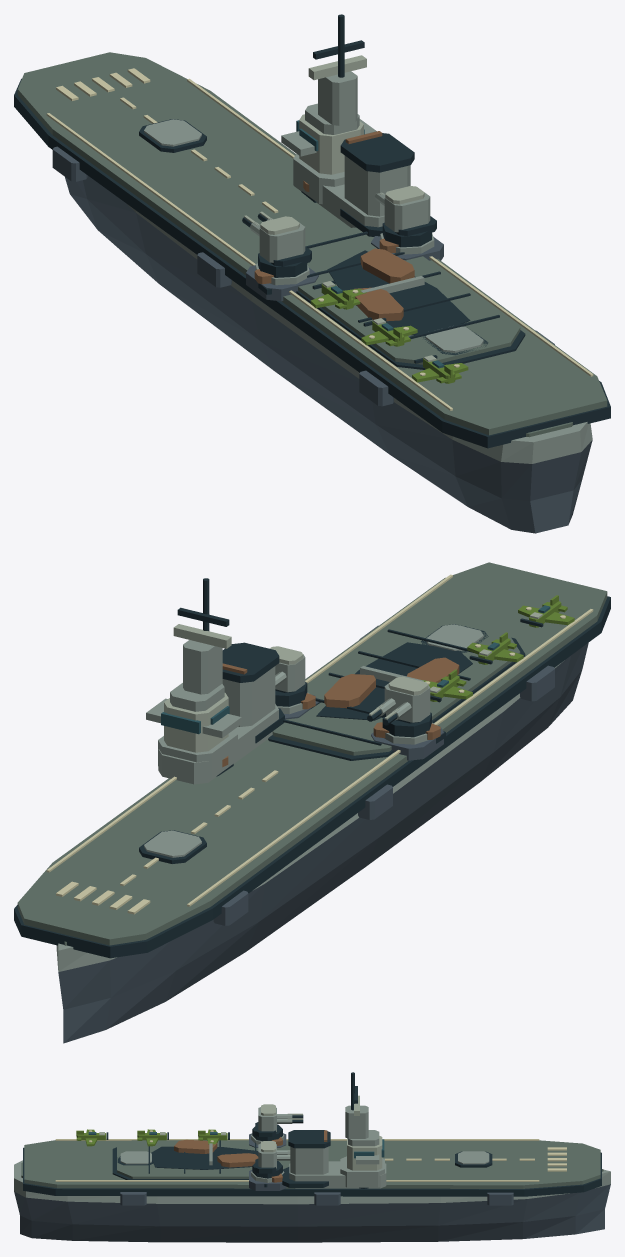
The model's file is historic-illustrious.glb.
3 views of the same model, one above another, from view 1: azimuth 30°, elevation 25°; view 2: azimuth 150°, elevation 25°; view 3: azimuth 270°, elevation 25° (orthographic). The views are drawn at different scales.
Visible parts, largest first — view 1: historic-illustrious-historic-illustrious-geometry, historic-illustrious-part_flight-deck.005-geometry, historic-illustrious-part_bridge.018-geometry, historic-illustrious-ruin_flight-deck.004-geometry, historic-illustrious-historic_funnel_0.019-geometry, historic-illustrious-turret_aa_aa-port.020-geometry, historic-illustrious-turret_aa_aa-starboard.018-geometry, historic-illustrious-aircraft_lift_0.005-geometry, historic-illustrious-aircraft_lift_1.005-geometry, historic-illustrious-part_aa-port.020-geometry, historic-illustrious-parked_aircraft_1.005-geometry, historic-illustrious-parked_aircraft_0.005-geometry (+2 smaller); view 2: historic-illustrious-historic-illustrious-geometry, historic-illustrious-part_flight-deck.005-geometry, historic-illustrious-part_bridge.018-geometry, historic-illustrious-historic_funnel_0.019-geometry, historic-illustrious-ruin_flight-deck.004-geometry, historic-illustrious-turret_aa_aa-port.020-geometry, historic-illustrious-turret_aa_aa-starboard.018-geometry, historic-illustrious-aircraft_lift_0.005-geometry, historic-illustrious-part_aa-port.020-geometry, historic-illustrious-aircraft_lift_1.005-geometry, historic-illustrious-parked_aircraft_1.005-geometry, historic-illustrious-parked_aircraft_0.005-geometry (+1 smaller); view 3: historic-illustrious-historic-illustrious-geometry, historic-illustrious-historic_funnel_0.019-geometry, historic-illustrious-part_bridge.018-geometry, historic-illustrious-part_flight-deck.005-geometry, historic-illustrious-ruin_flight-deck.004-geometry, historic-illustrious-turret_aa_aa-port.020-geometry, historic-illustrious-turret_aa_aa-starboard.018-geometry, historic-illustrious-aircraft_lift_0.005-geometry, historic-illustrious-aircraft_lift_1.005-geometry, historic-illustrious-part_aa-starboard.018-geometry, historic-illustrious-parked_aircraft_0.005-geometry, historic-illustrious-parked_aircraft_1.005-geometry (+1 smaller).
Part boxes in pixels (x1,y1,x2,y2): historic-illustrious-historic-illustrious-geometry: [14, 52, 610, 533]; historic-illustrious-part_flight-deck.005-geometry: [296, 227, 525, 369]; historic-illustrious-part_bridge.018-geometry: [281, 14, 376, 204]; historic-illustrious-ruin_flight-deck.004-geometry: [327, 248, 470, 335]; historic-illustrious-historic_funnel_0.019-geometry: [293, 131, 414, 236]; historic-illustrious-turret_aa_aa-port.020-geometry: [242, 211, 311, 277]; historic-illustrious-turret_aa_aa-starboard.018-geometry: [375, 186, 436, 247]; historic-illustrious-aircraft_lift_0.005-geometry: [139, 119, 206, 152]; historic-illustrious-aircraft_lift_1.005-geometry: [423, 326, 488, 355]; historic-illustrious-part_aa-port.020-geometry: [246, 263, 318, 301]; historic-illustrious-parked_aircraft_1.005-geometry: [361, 318, 417, 346]; historic-illustrious-parked_aircraft_0.005-geometry: [412, 355, 468, 383]; historic-illustrious-historic-illustrious-geometry: [14, 562, 610, 1043]; historic-illustrious-part_flight-deck.005-geometry: [268, 617, 525, 760]; historic-illustrious-part_bridge.018-geometry: [146, 578, 241, 779]; historic-illustrious-historic_funnel_0.019-geometry: [158, 642, 284, 784]; historic-illustrious-ruin_flight-deck.004-geometry: [316, 642, 472, 720]; historic-illustrious-turret_aa_aa-port.020-geometry: [367, 676, 431, 737]; historic-illustrious-turret_aa_aa-starboard.018-geometry: [270, 646, 307, 706]; historic-illustrious-aircraft_lift_0.005-geometry: [139, 830, 206, 863]; historic-illustrious-part_aa-port.020-geometry: [371, 722, 443, 760]; historic-illustrious-aircraft_lift_1.005-geometry: [421, 624, 488, 653]; historic-illustrious-parked_aircraft_1.005-geometry: [467, 632, 523, 664]; historic-illustrious-parked_aircraft_0.005-geometry: [518, 595, 574, 627]; historic-illustrious-historic-illustrious-geometry: [14, 1139, 610, 1242]; historic-illustrious-historic_funnel_0.019-geometry: [282, 1130, 386, 1188]; historic-illustrious-part_bridge.018-geometry: [340, 1072, 384, 1187]; historic-illustrious-part_flight-deck.005-geometry: [112, 1140, 290, 1179]; historic-illustrious-ruin_flight-deck.004-geometry: [151, 1139, 258, 1169]; historic-illustrious-turret_aa_aa-port.020-geometry: [252, 1104, 303, 1141]; historic-illustrious-turret_aa_aa-starboard.018-geometry: [252, 1141, 290, 1178]; historic-illustrious-aircraft_lift_0.005-geometry: [455, 1151, 492, 1167]; historic-illustrious-aircraft_lift_1.005-geometry: [117, 1151, 153, 1165]; historic-illustrious-part_aa-starboard.018-geometry: [249, 1170, 286, 1190]; historic-illustrious-parked_aircraft_0.005-geometry: [76, 1129, 108, 1146]; historic-illustrious-parked_aircraft_1.005-geometry: [137, 1129, 168, 1146].
Bounding box in the file's own units: 1.34 × 1.92 × 5.89.
